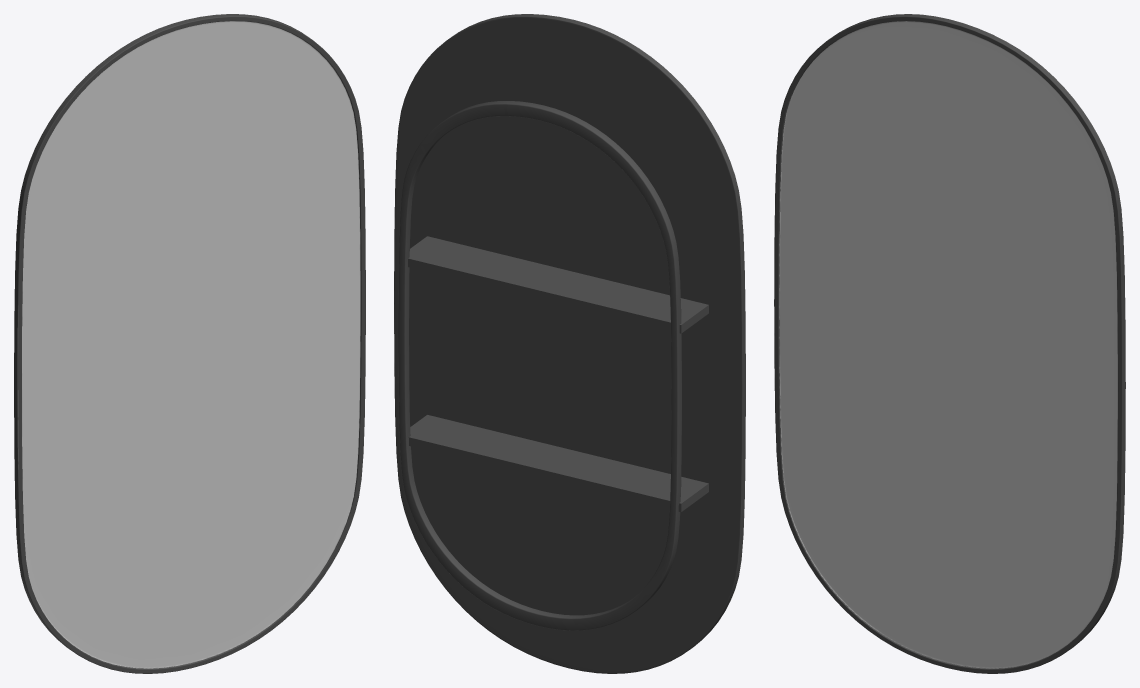
Rendered from Mirror_008.gltf.
3 renders of one model, left to right at view 1: azimuth 30°, elevation 25°; view 2: azimuth 150°, elevation 25°; view 3: azimuth 330°, elevation 25°, orthographic.
Visible parts, largest first — view 1: Mirror_008; view 2: Mirror_008; view 3: Mirror_008.
Part boxes in pixels (x1,y1,x2,y2): Mirror_008: [14, 14, 365, 673]; Mirror_008: [394, 14, 745, 673]; Mirror_008: [774, 14, 1125, 673].
Bounding box in the file's own units: 0.4036 × 0.7152 × 0.0678.
1 material, 1 textured.
